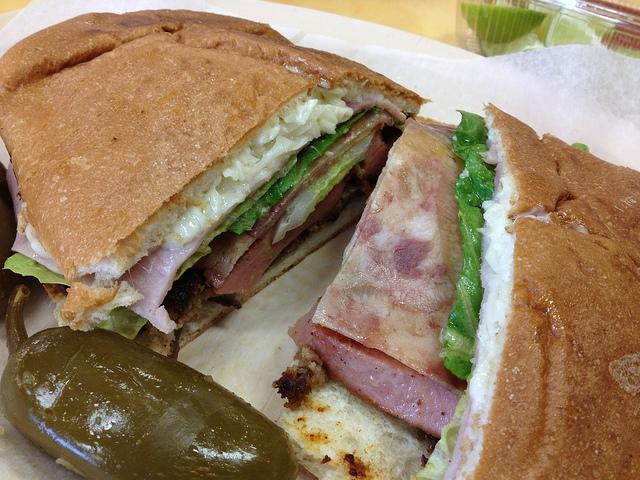lettuce: (229, 107, 406, 234), (438, 109, 496, 382), (272, 130, 376, 244), (417, 372, 472, 480), (3, 252, 71, 286), (94, 306, 148, 340)
lime: (461, 4, 549, 44), (479, 34, 528, 57), (552, 18, 592, 46), (530, 8, 562, 42)
